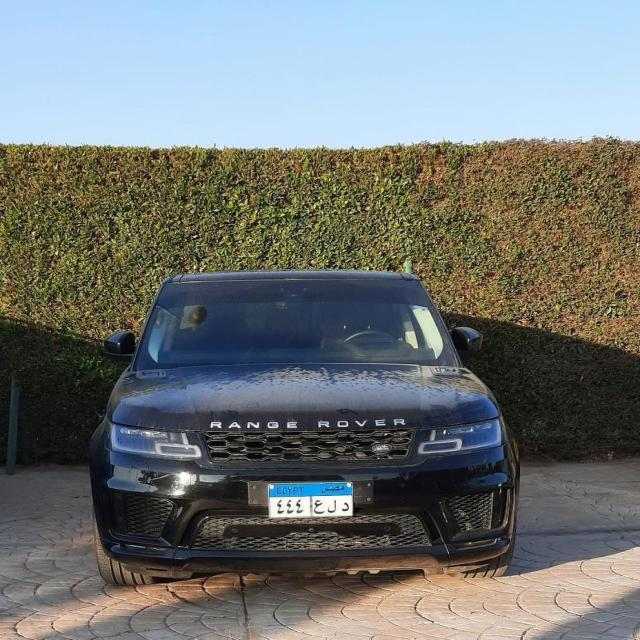License Plate: (268, 480, 354, 519)
